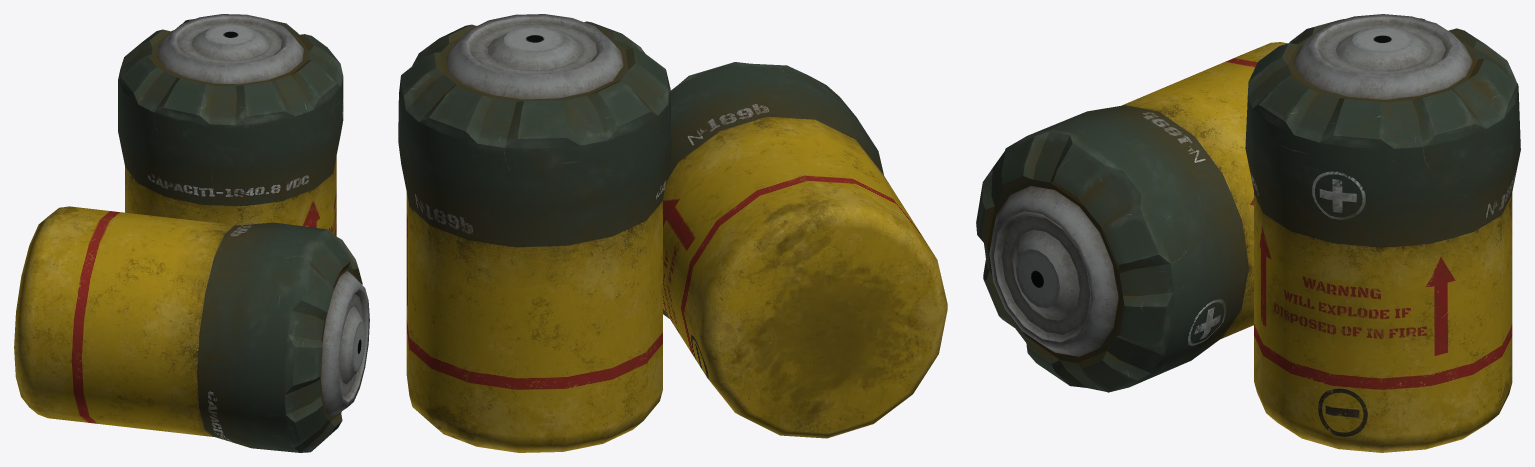
File: battery_fallout-opt.glb
3 views of the same model, side by side, from view 1: azimuth 30°, elevation 25°; view 2: azimuth 150°, elevation 25°; view 3: azimuth 270°, elevation 25° (orthographic). The views are drawn at different scales.
Visible parts, largest first — view 1: polySurface26_low_lambert6_0; view 2: polySurface26_low_lambert6_0; view 3: polySurface26_low_lambert6_0.
Boxes of the visible parts, x1,y1,x2,y2 form: polySurface26_low_lambert6_0: (14,14,369,452); polySurface26_low_lambert6_0: (398,14,947,452); polySurface26_low_lambert6_0: (976,14,1520,452).
Bounding box in the file's own units: 0.1426 × 0.1122 × 0.1487.
1 material, 1 textured.
